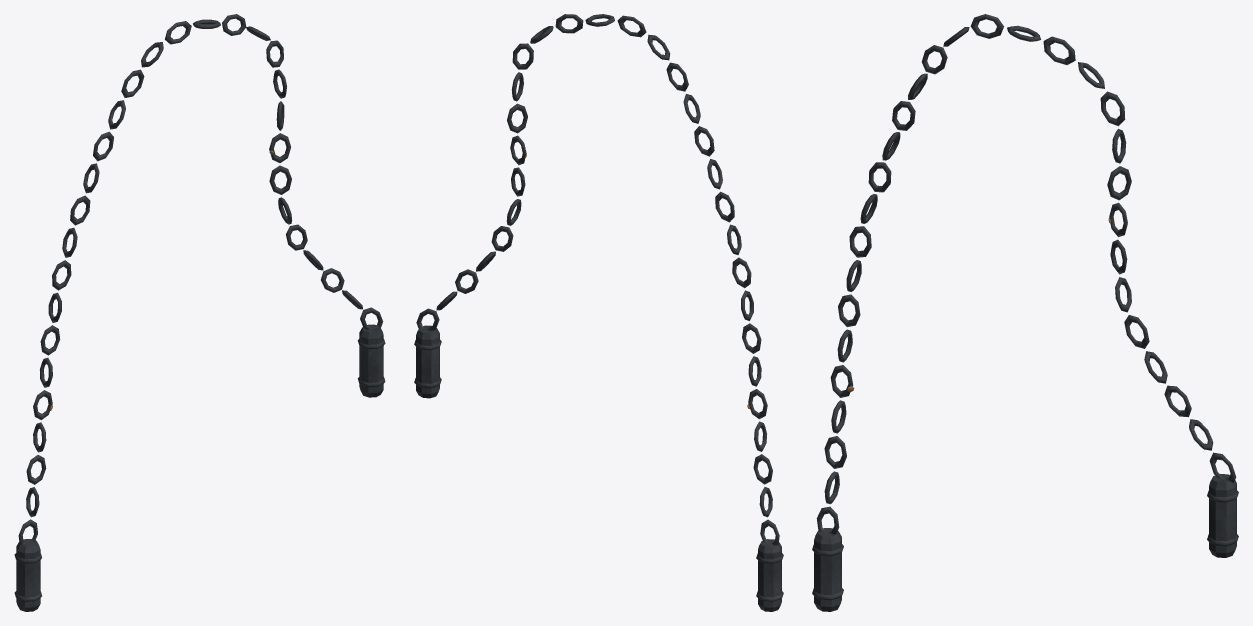
Rendered from weighted-chain.lod2.glb.
The picture shows the model from 3 angles, left to right: view 1: azimuth 30°, elevation 25°; view 2: azimuth 150°, elevation 25°; view 3: azimuth 330°, elevation 25°; orthographic projection. The views are drawn at different scales.
Visible parts, largest first — view 1: darksteel / oil-blackened fittings; view 2: darksteel / oil-blackened fittings; view 3: darksteel / oil-blackened fittings.
Boxes of the visible parts, x1,y1,x2,y2 form: darksteel / oil-blackened fittings: [14, 14, 385, 611]; darksteel / oil-blackened fittings: [414, 14, 783, 611]; darksteel / oil-blackened fittings: [812, 14, 1238, 611].
Bounding box in the file's own units: 0.708 × 1.02 × 0.0638.
2 materials, 1 textured.
